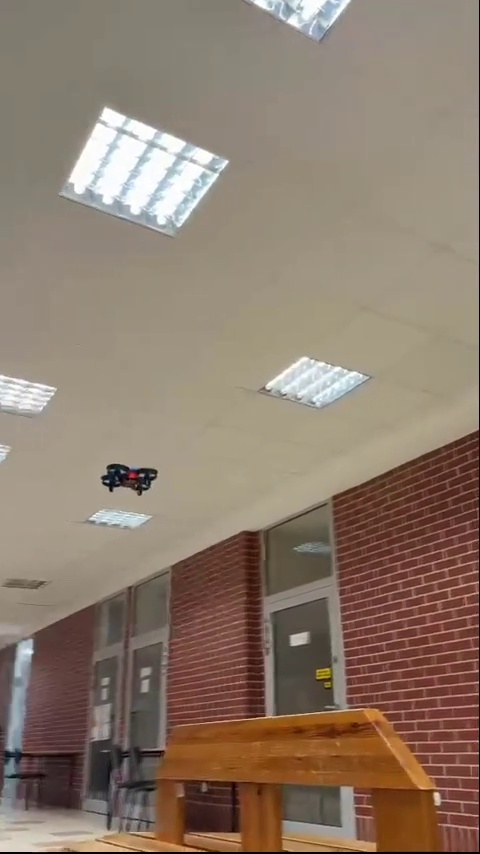drone: (99, 463, 157, 492)
